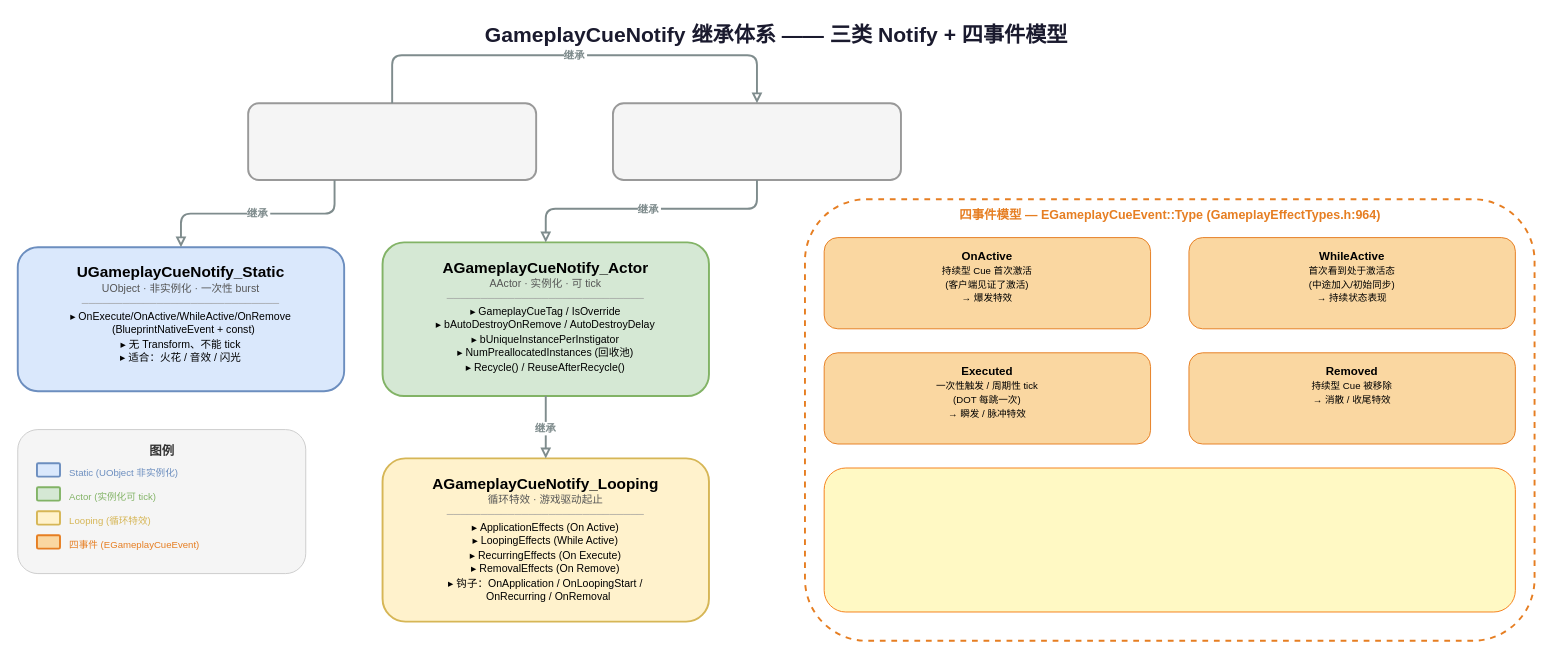
The diagram is 1551 pixels wide and 658 high, and some of its shapes have lost their labels. Each missing label, with the centre of its shape:
AActor 可 Spawn 到世界: point (756, 141)
UObject 根类: point (392, 141)
生命周期示例（中毒） OnActive(爆绿雾) → WhileActive(持续冒烟) → Executed(每跳冒绿点) → Removed(绿烟消散): point (1169, 539)
